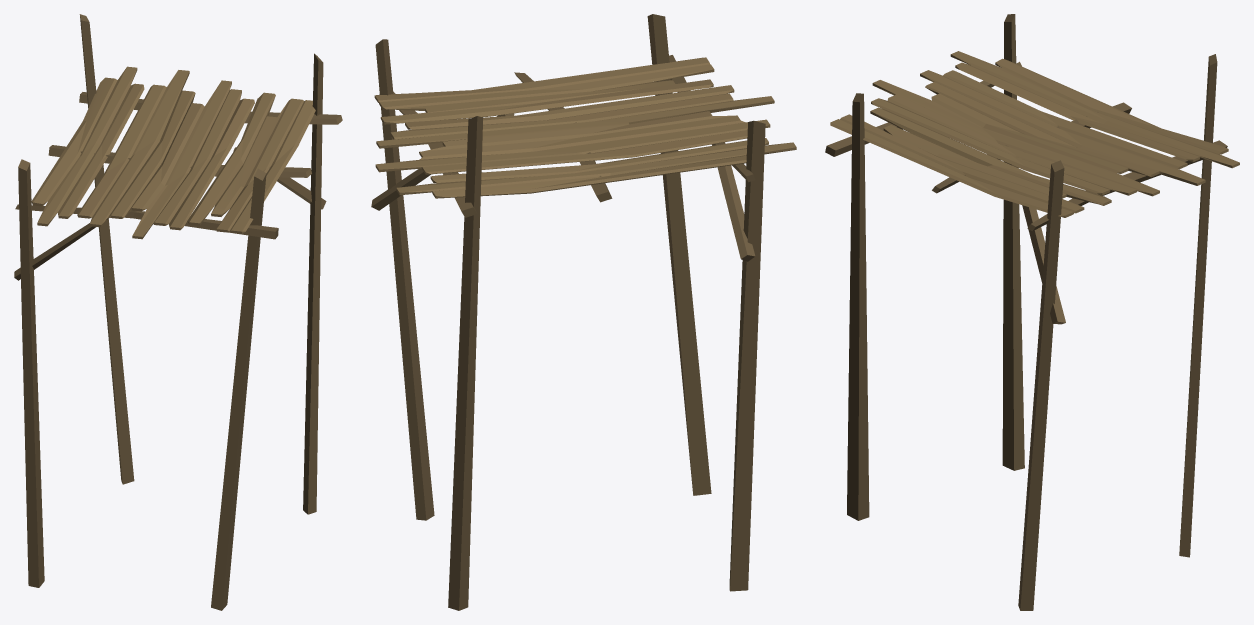
File: SM_Bld_Rickety_Dock_Platform_07 (1).glb
3 views of the same model, side by side, from view 1: azimuth 30°, elevation 25°; view 2: azimuth 150°, elevation 25°; view 3: azimuth 270°, elevation 25° (orthographic). The views are drawn at different scales.
Parts seen in each view (by area): view 1: SM_Bld_Rickety_Dock_Platform_07 (1)(Clone); view 2: SM_Bld_Rickety_Dock_Platform_07 (1)(Clone); view 3: SM_Bld_Rickety_Dock_Platform_07 (1)(Clone).
Part boxes in pixels (bbox=[...]): SM_Bld_Rickety_Dock_Platform_07 (1)(Clone): bbox=[14, 14, 342, 610]; SM_Bld_Rickety_Dock_Platform_07 (1)(Clone): bbox=[371, 14, 796, 610]; SM_Bld_Rickety_Dock_Platform_07 (1)(Clone): bbox=[825, 14, 1239, 610].
Size of the model in its own units: 6.64 by 8.64 by 6.7.
1 material, 1 textured.
